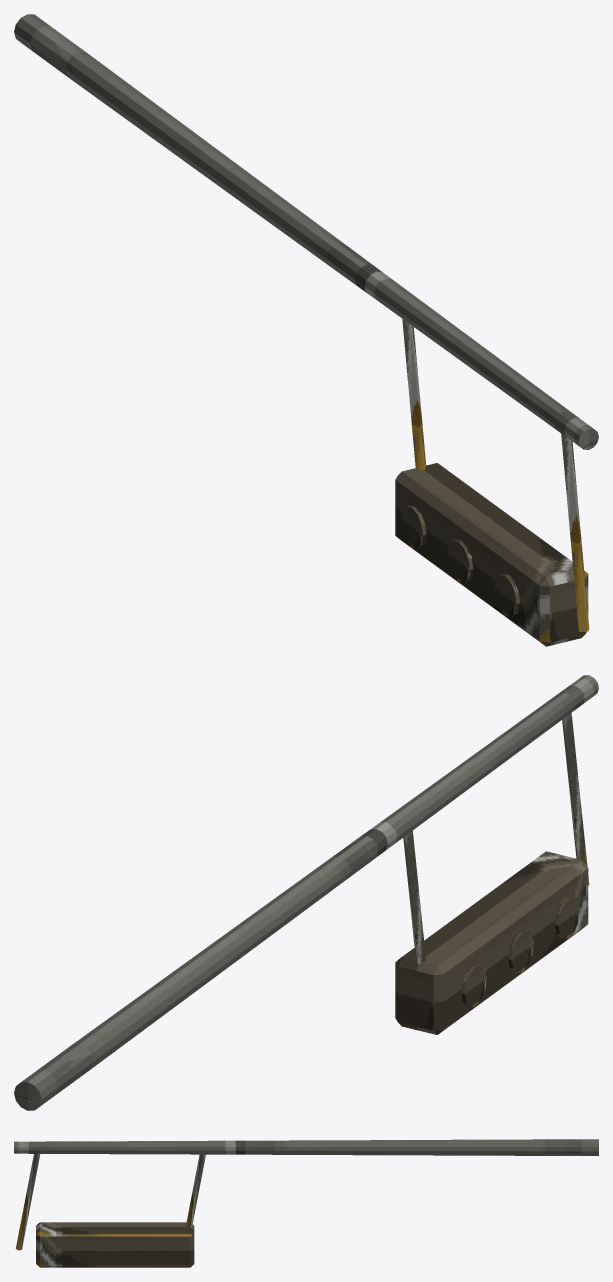
The model's file is pz_street_pole_20.obj.
3 renders of one model, top to bottom at view 1: azimuth 30°, elevation 25°; view 2: azimuth 150°, elevation 25°; view 3: azimuth 270°, elevation 25°, orthographic. The views are drawn at different scales.
Parts seen in each view (by area): view 1: pz_street_pole_20_|_tapered_native_street_pole, pz_street_pole_20_|_native_traffic_signal_housing, pz_street_pole_20_|_traffic_light_support_arm.001, pz_street_pole_20_|_traffic_light_support_arm, pz_street_pole_20_|_signal_light_lens.002, pz_street_pole_20_|_signal_light_lens.001, pz_street_pole_20_|_signal_light_lens; view 2: pz_street_pole_20_|_tapered_native_street_pole, pz_street_pole_20_|_native_traffic_signal_housing, pz_street_pole_20_|_traffic_light_support_arm.001, pz_street_pole_20_|_traffic_light_support_arm, pz_street_pole_20_|_signal_light_lens.002, pz_street_pole_20_|_signal_light_lens, pz_street_pole_20_|_signal_light_lens.001; view 3: pz_street_pole_20_|_tapered_native_street_pole, pz_street_pole_20_|_native_traffic_signal_housing, pz_street_pole_20_|_traffic_light_support_arm.001, pz_street_pole_20_|_traffic_light_support_arm.
Part boxes in pixels (x1=…): pz_street_pole_20_|_tapered_native_street_pole: x1=14, y1=14, x2=598, y2=449; pz_street_pole_20_|_native_traffic_signal_housing: x1=395, y1=463, x2=588, y2=646; pz_street_pole_20_|_traffic_light_support_arm.001: x1=561, y1=433, x2=589, y2=631; pz_street_pole_20_|_traffic_light_support_arm: x1=402, y1=319, x2=426, y2=470; pz_street_pole_20_|_signal_light_lens.002: x1=401, y1=505, x2=426, y2=548; pz_street_pole_20_|_signal_light_lens.001: x1=447, y1=539, x2=473, y2=582; pz_street_pole_20_|_signal_light_lens: x1=494, y1=574, x2=519, y2=616; pz_street_pole_20_|_tapered_native_street_pole: x1=14, y1=675, x2=598, y2=1110; pz_street_pole_20_|_native_traffic_signal_housing: x1=395, y1=851, x2=588, y2=1034; pz_street_pole_20_|_traffic_light_support_arm.001: x1=562, y1=713, x2=589, y2=885; pz_street_pole_20_|_traffic_light_support_arm: x1=403, y1=830, x2=426, y2=964; pz_street_pole_20_|_signal_light_lens.002: x1=461, y1=964, x2=486, y2=1007; pz_street_pole_20_|_signal_light_lens: x1=555, y1=895, x2=580, y2=938; pz_street_pole_20_|_signal_light_lens.001: x1=508, y1=929, x2=533, y2=972; pz_street_pole_20_|_tapered_native_street_pole: x1=14, y1=1139, x2=598, y2=1155; pz_street_pole_20_|_native_traffic_signal_housing: x1=36, y1=1222, x2=194, y2=1267; pz_street_pole_20_|_traffic_light_support_arm.001: x1=15, y1=1154, x2=40, y2=1250; pz_street_pole_20_|_traffic_light_support_arm: x1=186, y1=1154, x2=205, y2=1227.
Size of the model in its own units: 0.139 by 0.556 by 2.4.
5 materials, 5 textured.
